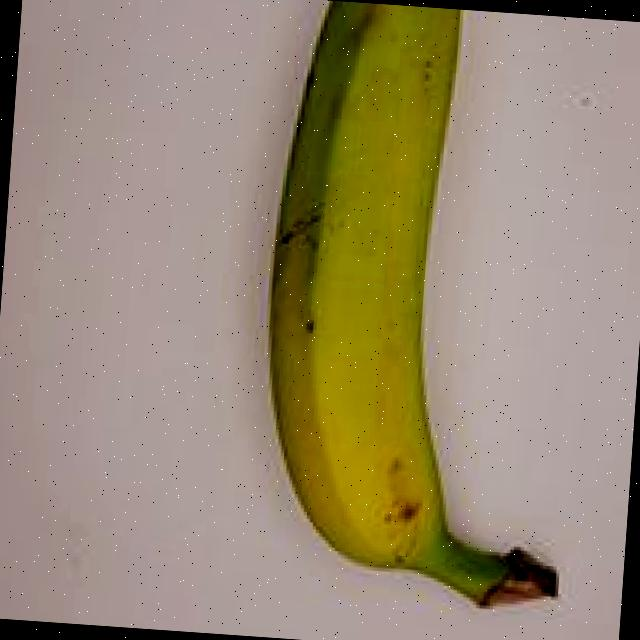Unripe: (213, 0, 618, 618)
